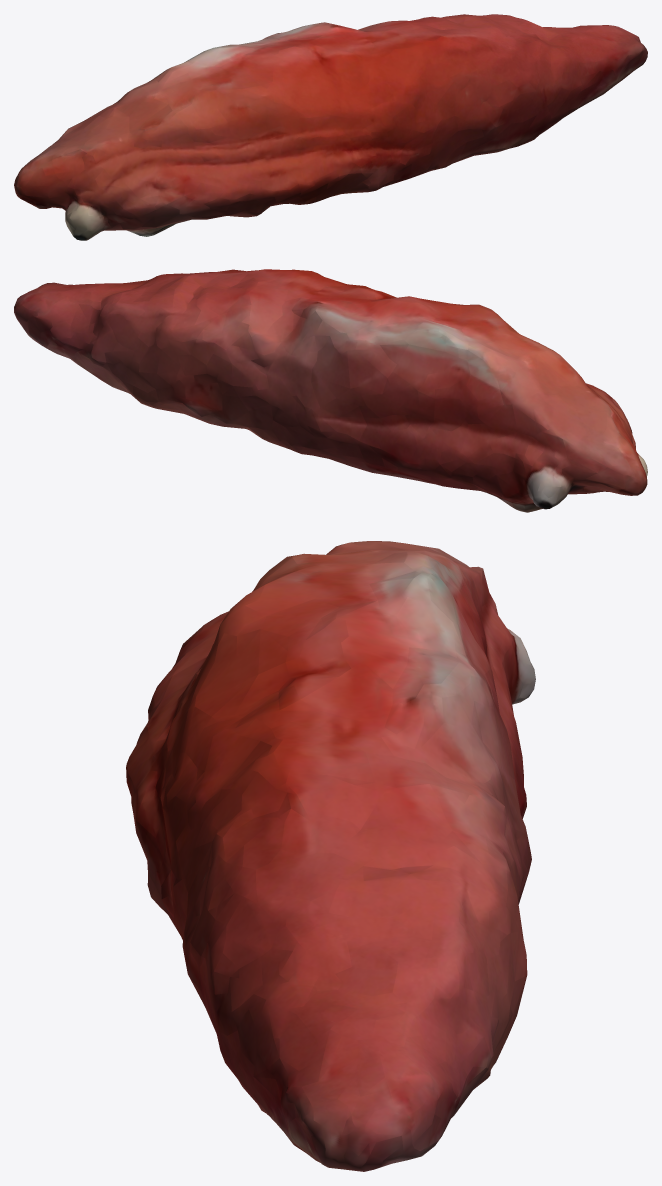
Rendered from yamWalkyamWalk09.fbx.
The picture shows the model from 3 angles, top to bottom: view 1: azimuth 30°, elevation 25°; view 2: azimuth 150°, elevation 25°; view 3: azimuth 270°, elevation 25°; orthographic projection. The views are drawn at different scales.
Visible parts, largest first — view 1: yamWalk09; view 2: yamWalk09; view 3: yamWalk09.
Part boxes in pixels (<box>): yamWalk09: <box>14,14,647,240</box>; yamWalk09: <box>14,269,647,512</box>; yamWalk09: <box>126,541,535,1171</box>.
Size of the model in its own units: 0.1205 by 0.0287 by 0.0351.
1 material, 1 textured.
